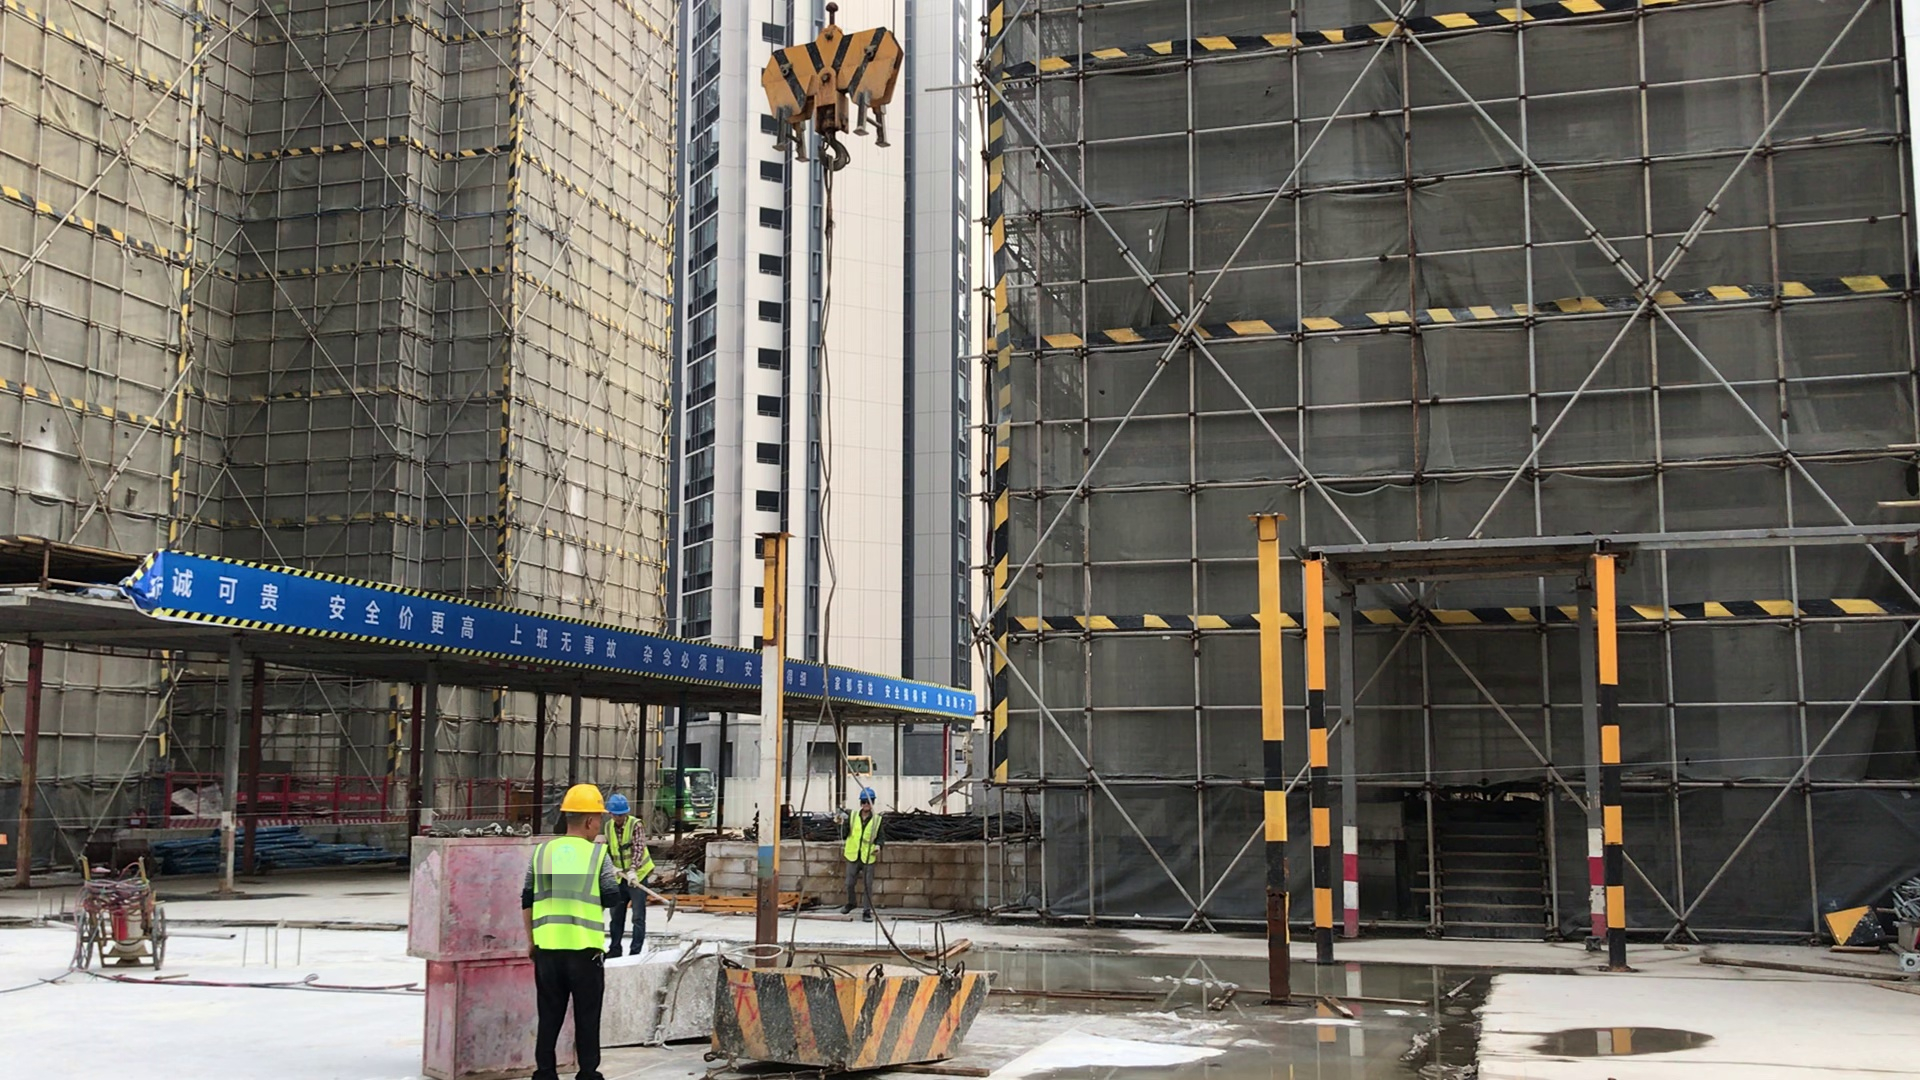fence: (167, 770, 533, 822)
handcart: (74, 853, 165, 970)
helmet: (560, 783, 605, 815), (605, 795, 630, 816), (859, 789, 875, 800)
hook: (761, 3, 904, 172)
hopper: (720, 968, 990, 1064), (598, 951, 719, 1050)
person: (523, 783, 623, 1080), (602, 794, 655, 960), (837, 787, 885, 922)
slogan: (142, 550, 971, 723)
vest: (532, 836, 609, 951), (608, 817, 654, 883), (843, 809, 881, 866)
